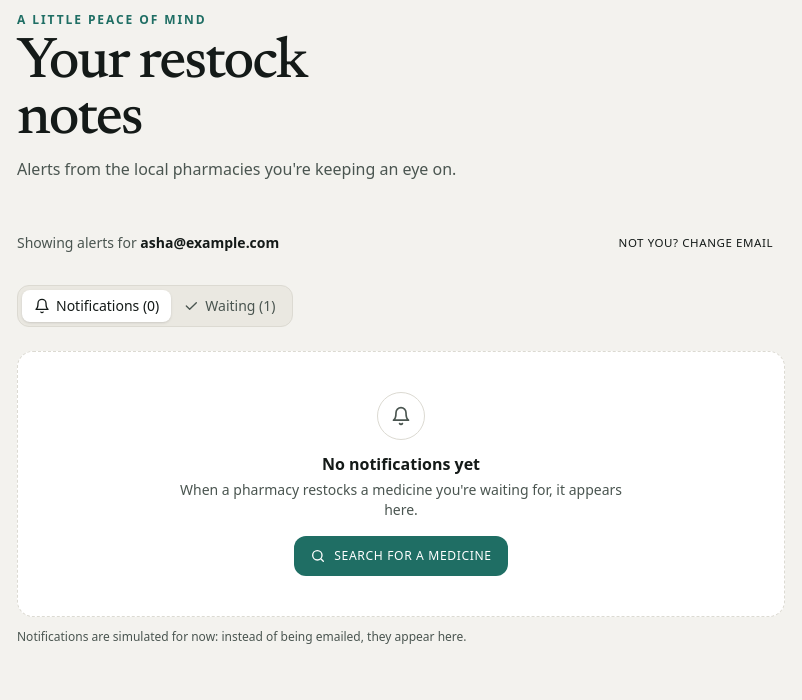
Test: NotificationsPage with an email › treats 'already fulfilled' as done: no error, the list just refreshes
The image size is (802, 700).
What coordinates should you click on to do the following:
click the button "Waiting (1)"
I would click on:
 (229, 306)
Its box is [171,290,288,322].
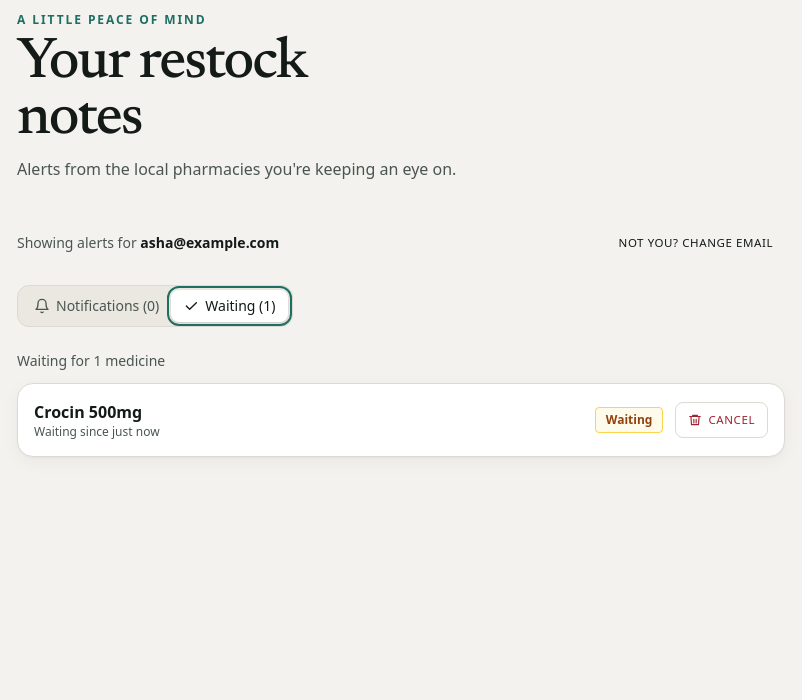
What coordinates should you click on to do the following:
click the button with aria-label "stop waiting"
I would click on:
 (722, 420)
Its box is [675,402,768,438].
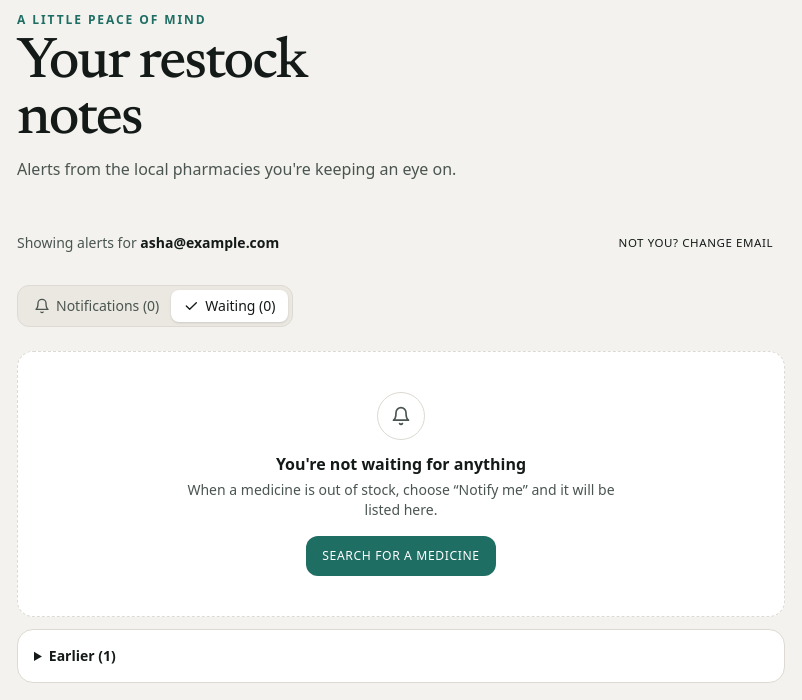
Check: the heading "You're not waiting for anything" is shown, box [276,452,526,476]
